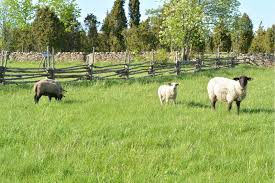sheep: (208, 75, 254, 113), (33, 78, 67, 102), (157, 81, 178, 106)
